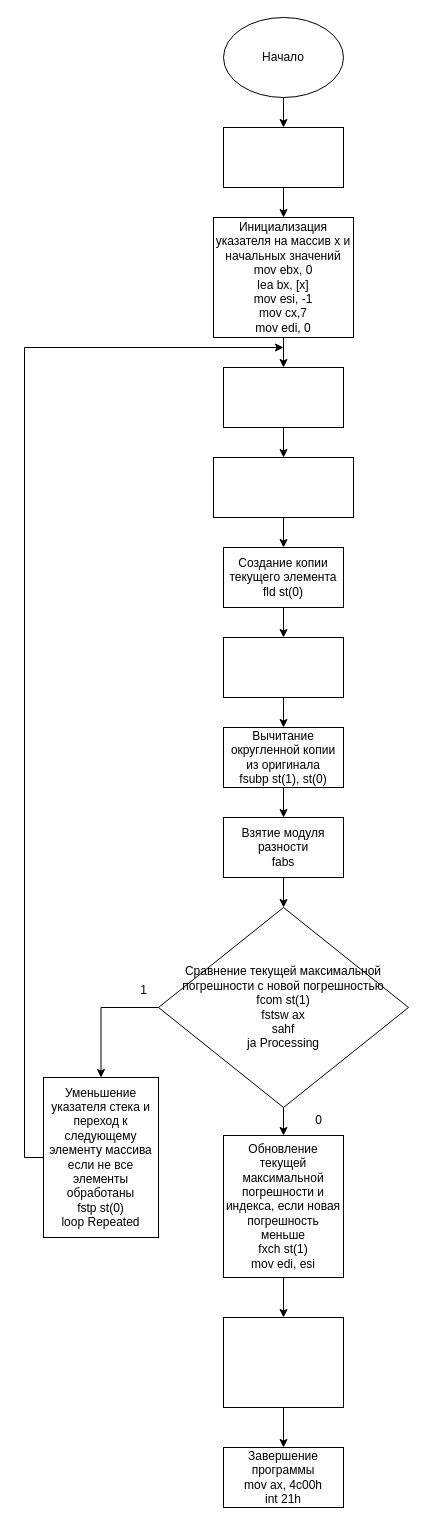
Some shapes in this 426 by 1525 pixel diagram are drawn without their labels. The centre of each missing label's shape, as x and y in pixels:
mov ax,cs mov ds,ax finit fld1: [283,157]
Загрузка текущего элемента массива fld dword ptr[ebx + esi*4]: [283,487]
Округление копии до ближайшего целого числа frndint: [283,667]
Сохранение индекса элемента с минимальной погрешностью в переменную z fstp z: [283,1362]
Увеличение текущего индекса inc esi: [283,397]
